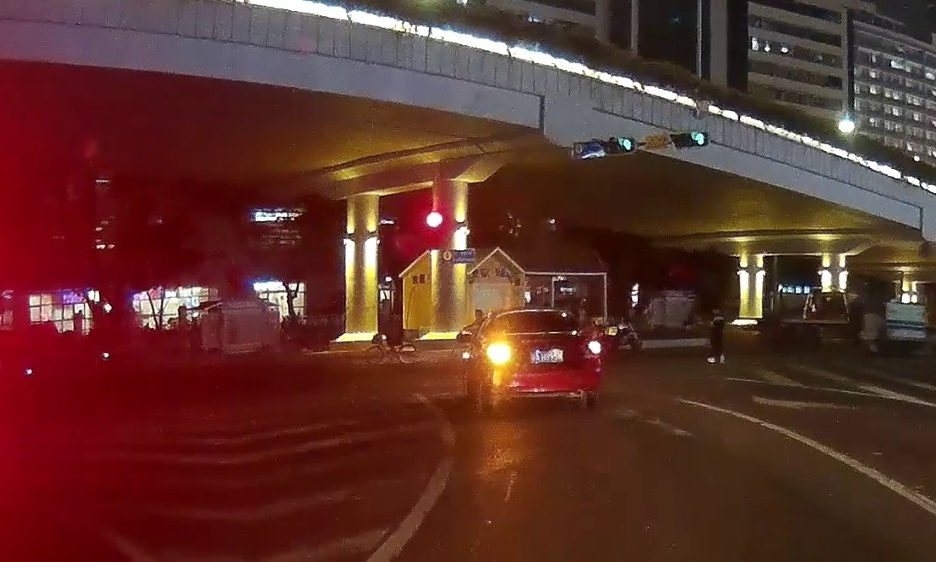L_light: (487, 347, 511, 359)
R_light: (586, 342, 601, 354)
T_light: (528, 311, 544, 316)
night-left: (484, 309, 602, 416)
